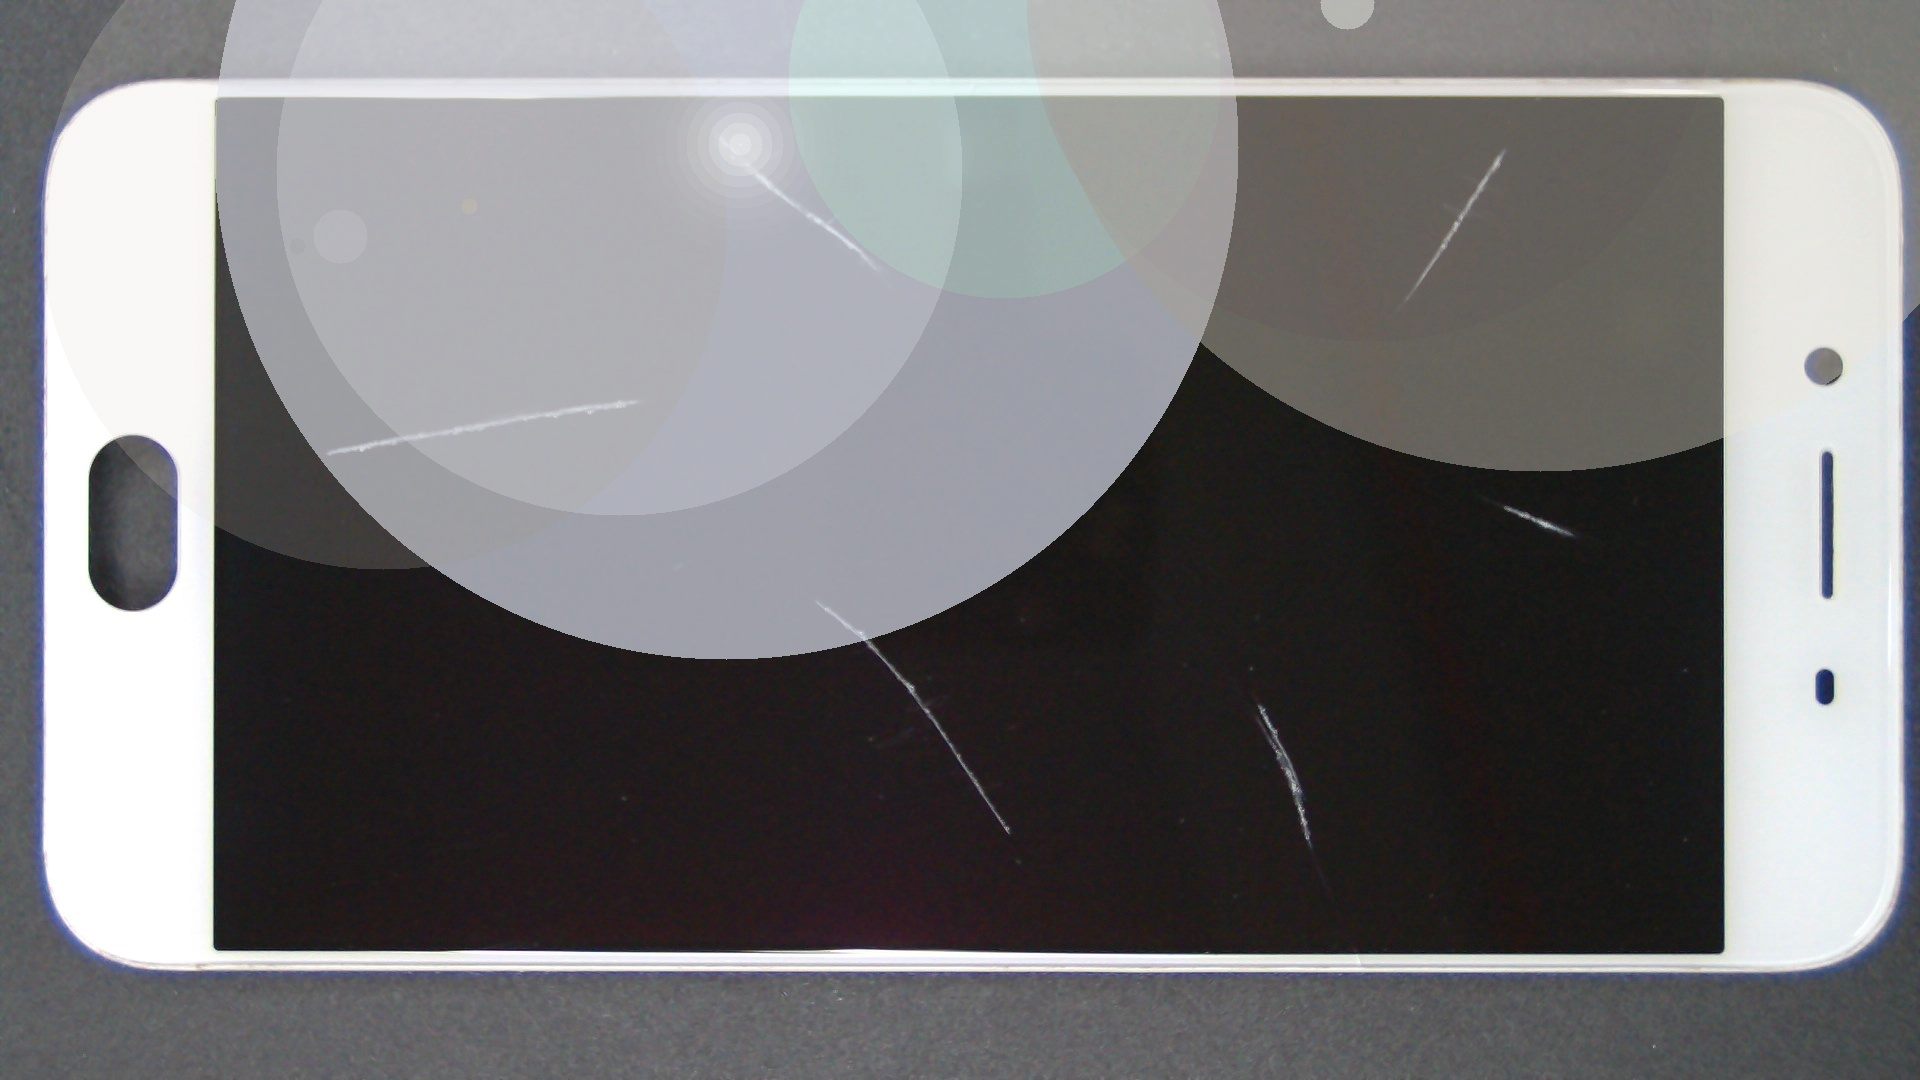oil: (629, 351, 1887, 1058), (738, 248, 1920, 745), (409, 299, 1224, 901), (319, 199, 953, 597), (752, 74, 1920, 223), (360, 63, 1073, 196)
